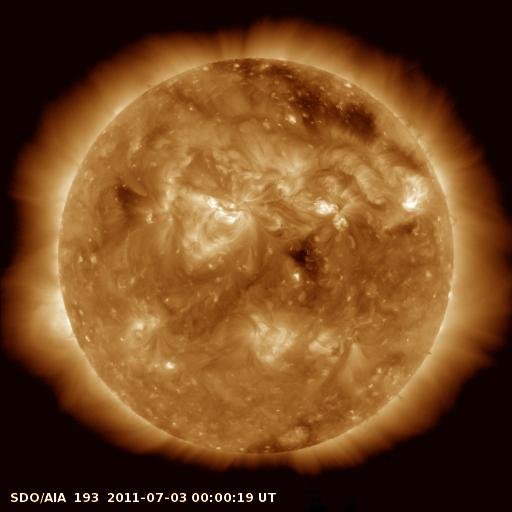coronal_hole: (210, 53, 389, 148), (285, 241, 318, 272)
